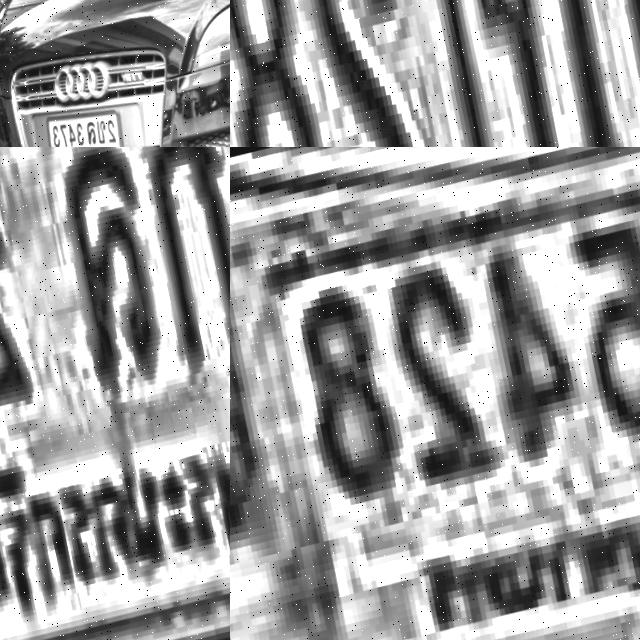license-plate: (230, 147, 640, 640), (0, 147, 230, 640), (230, 0, 640, 147), (38, 99, 135, 147)
